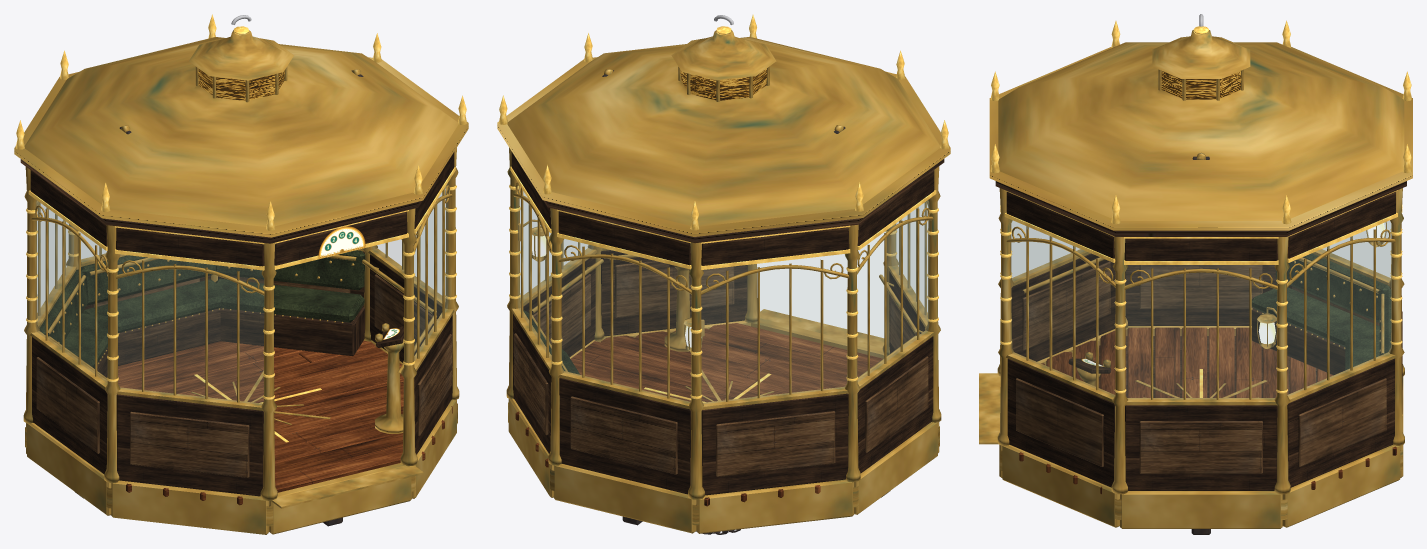
File: sp_liftA_cab.glb
3 views of the same model, side by side, from view 1: azimuth 30°, elevation 25°; view 2: azimuth 150°, elevation 25°; view 3: azimuth 270°, elevation 25° (orthographic).
Visible parts, largest first — view 1: spire; view 2: spire; view 3: spire.
Part boxes in pixels (x1=…): spire: x1=14, y1=14, x2=468, y2=534; spire: x1=497, y1=14, x2=950, y2=534; spire: x1=979, y1=14, x2=1412, y2=534.
Bounding box in the file's own units: 4.38 × 5.67 × 4.49.
Materials: 13 (10 with a texture image).
